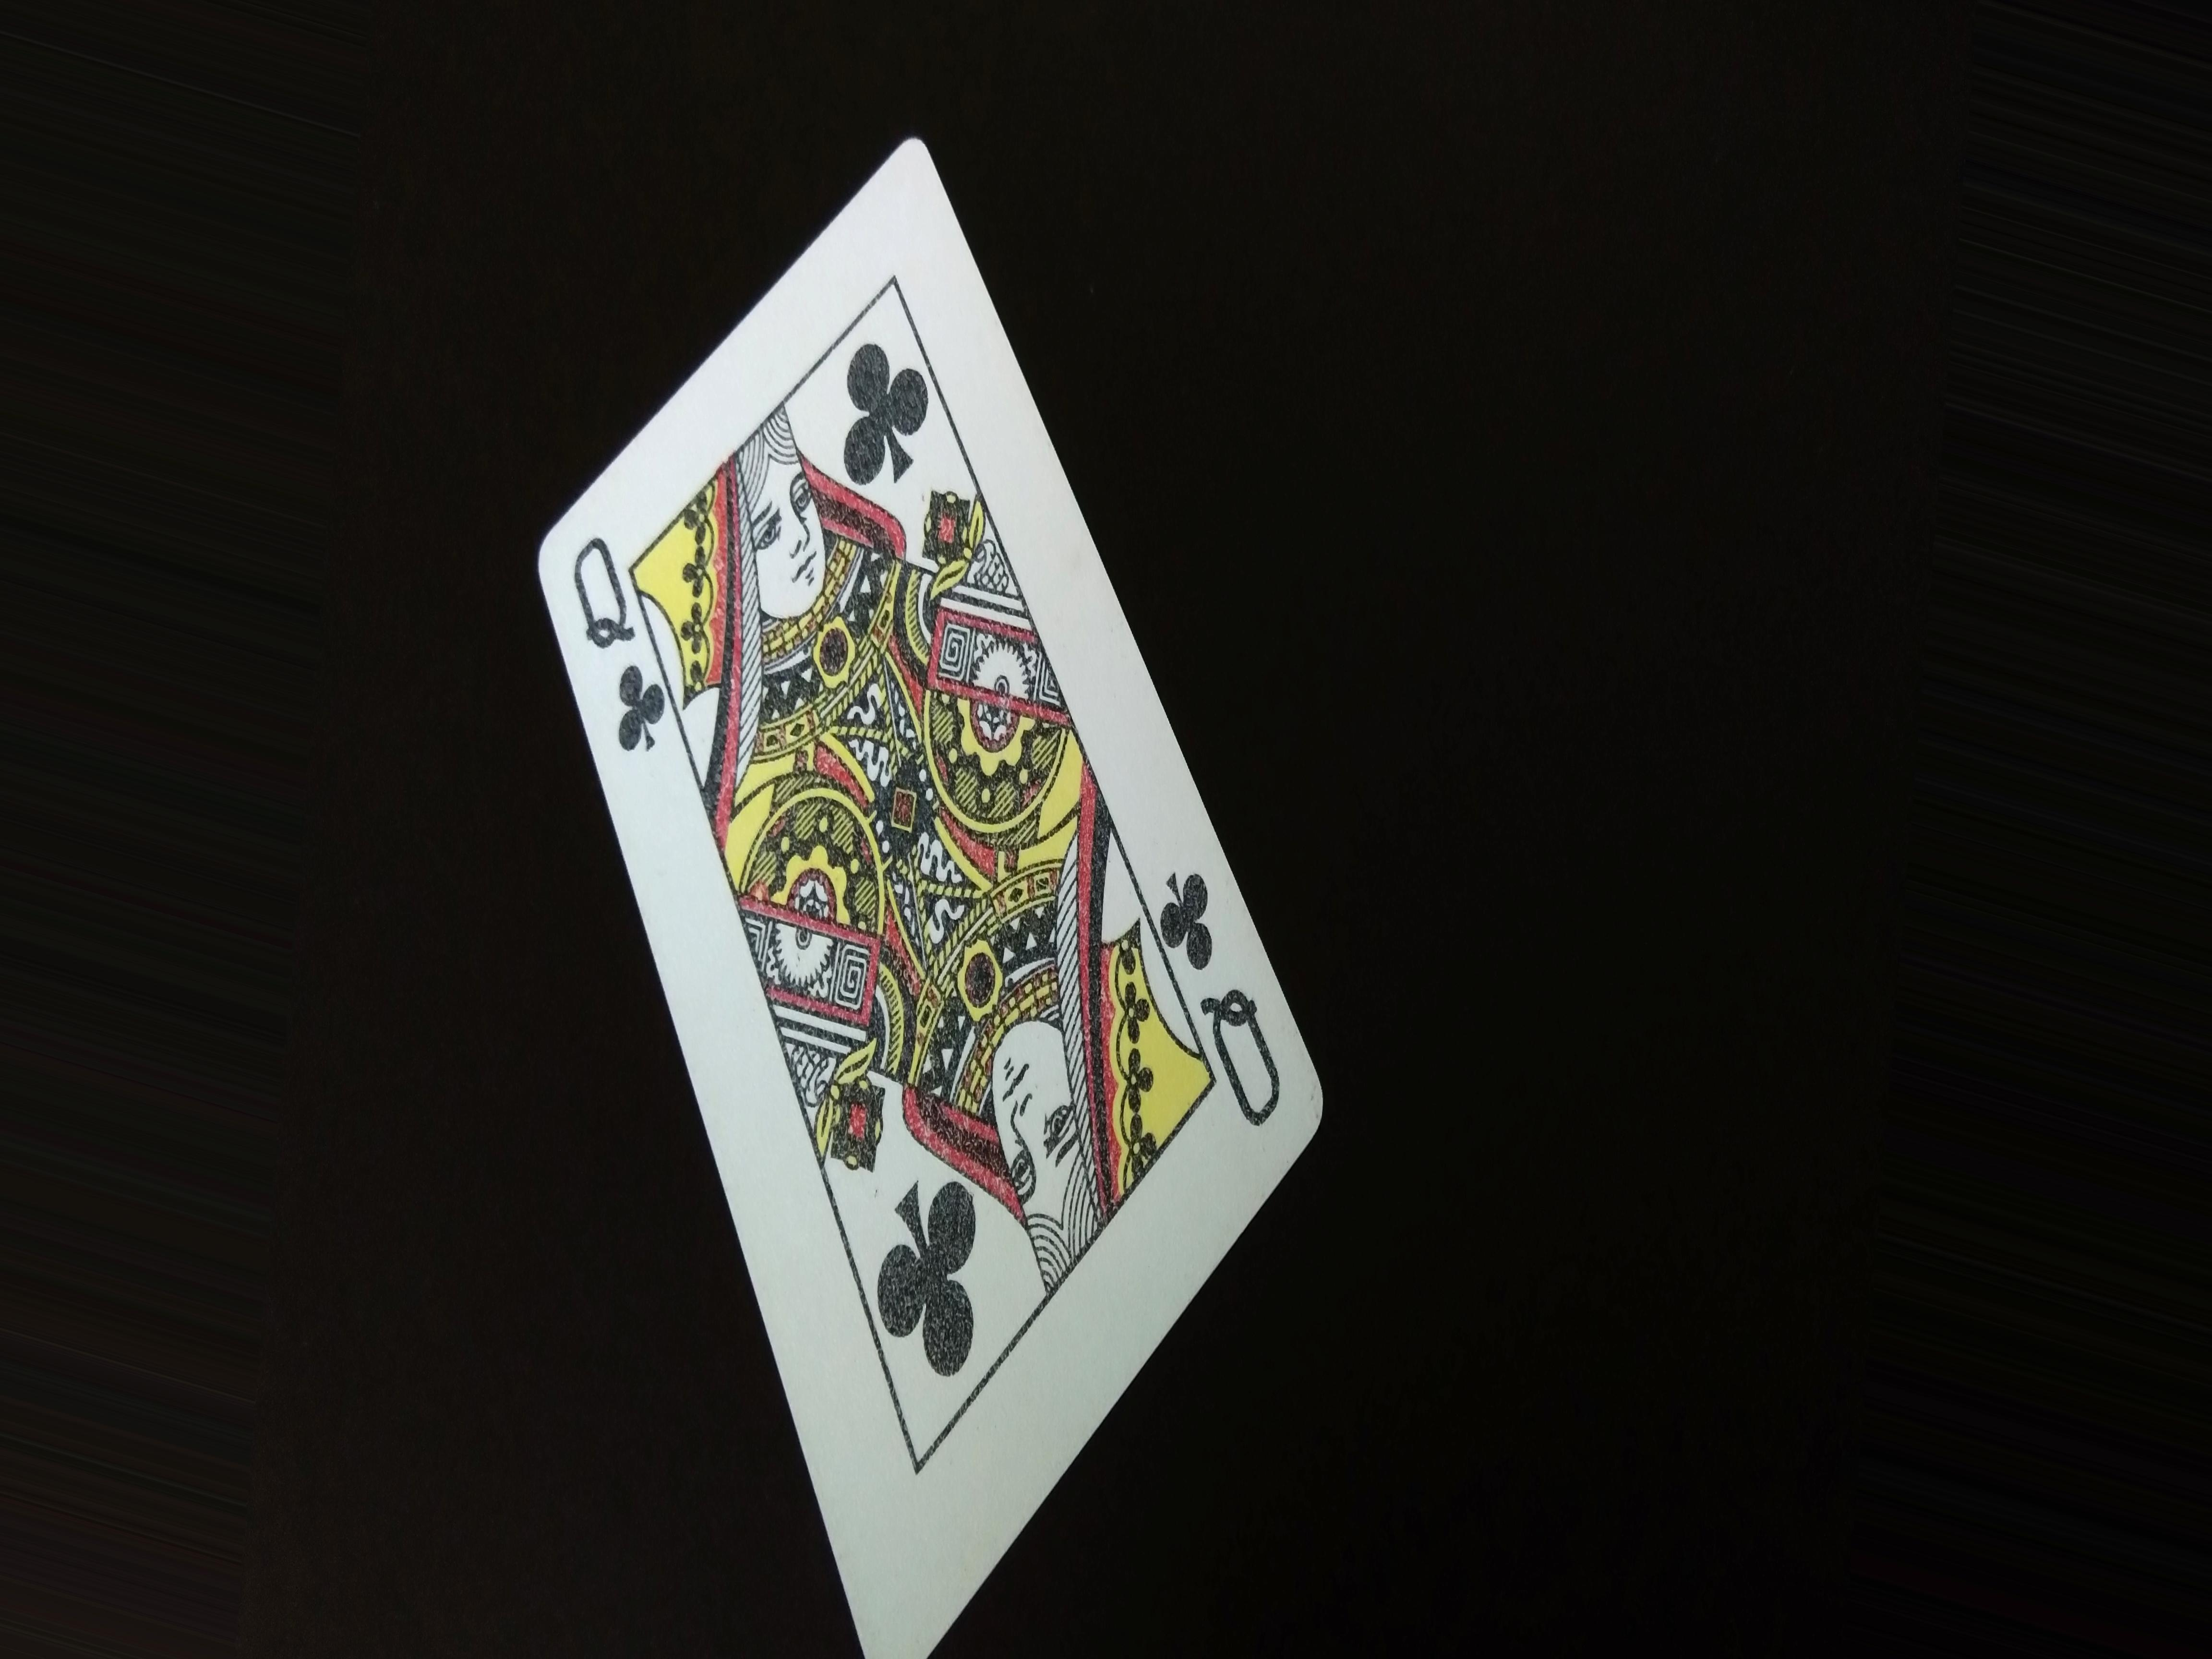QC: (540, 535, 672, 760)
